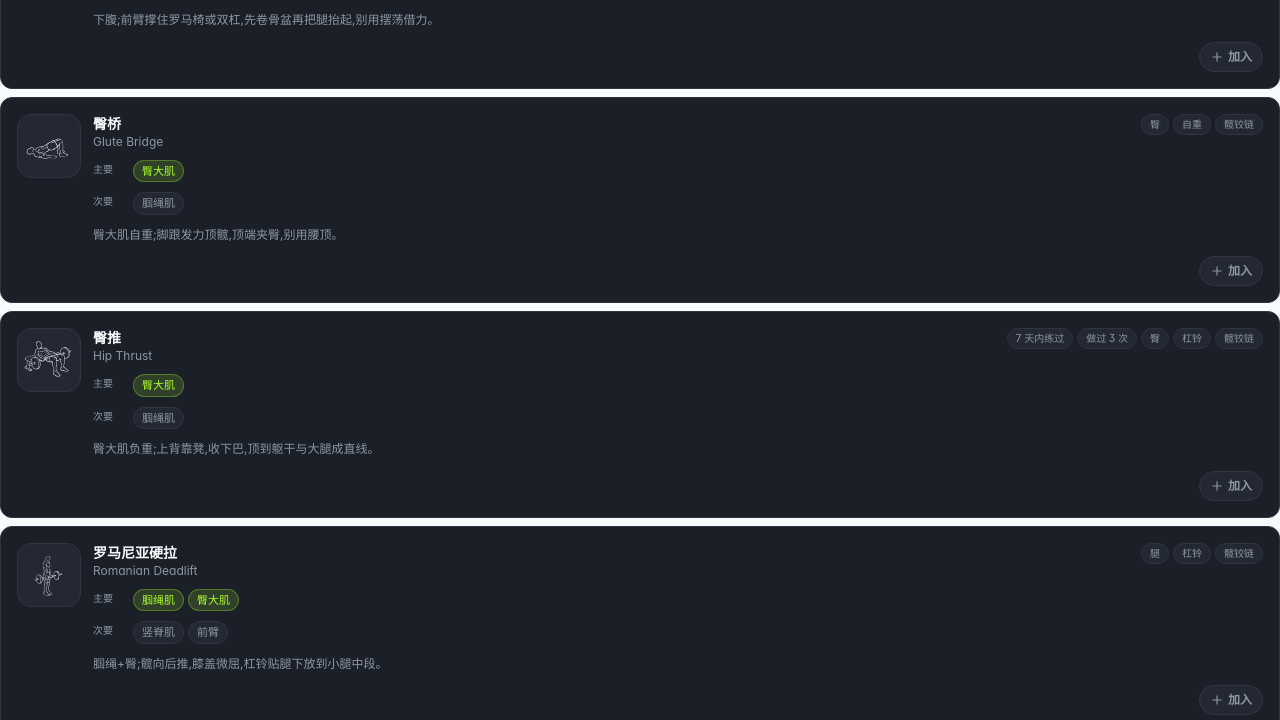
Test: FitExerciseLibrary › 点缩略图打开示范弹窗,含大图、要点与来源署名
(page scrolled)
Step 1. Click the button named "查看 臀推 示范图" → x=49, y=360, box [17,328,81,392]
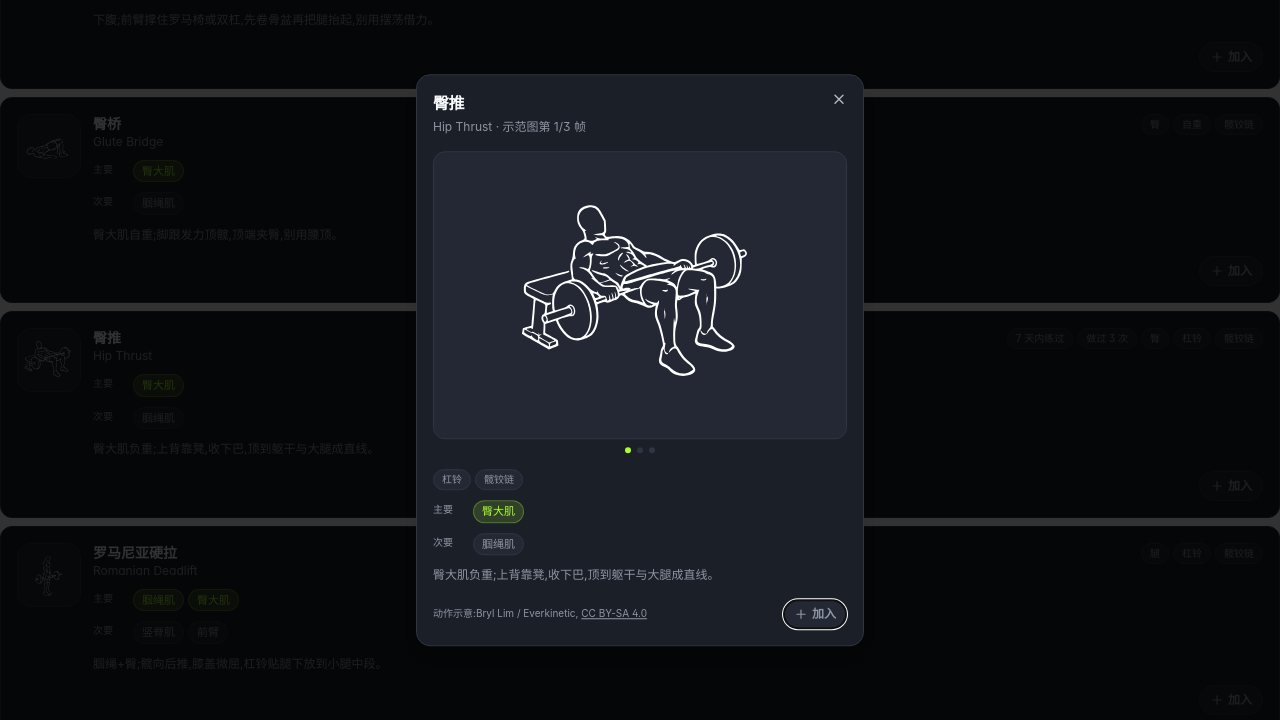
Expected: the text "臀大肌负重;上背靠凳,收下巴,顶到躯干与大腿成直线。" is shown, [433,567,720,582]
Expected: the link "CC BY-SA 4.0" is shown, [581,608,647,620]
